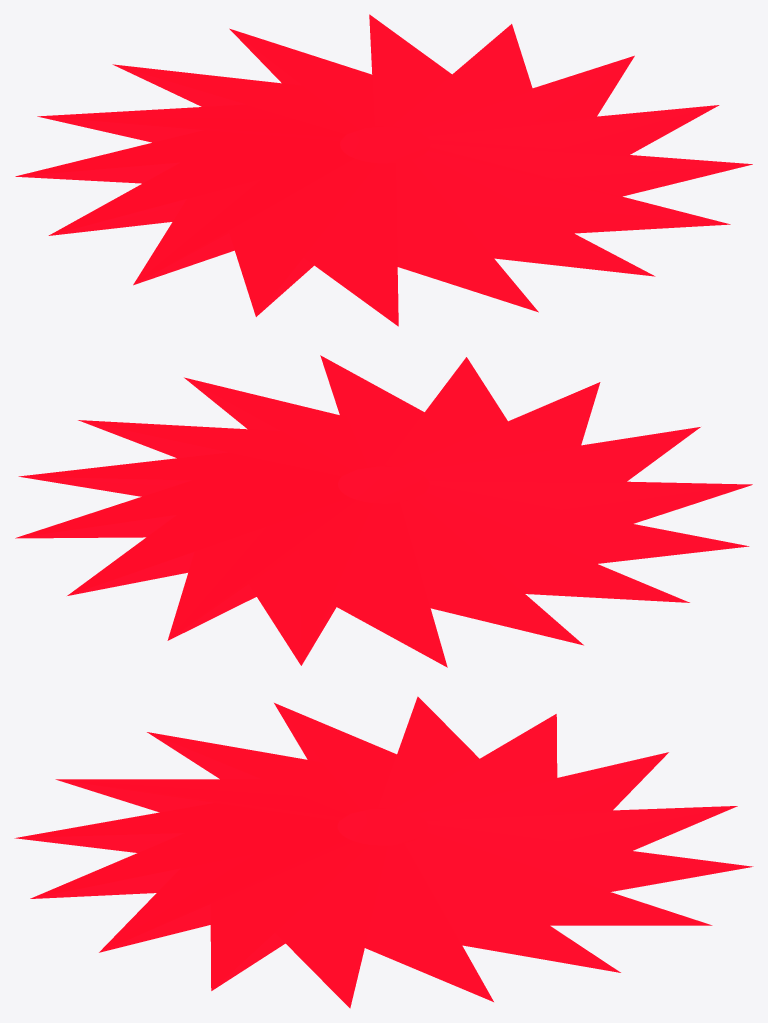
The model's file is Suriken.fbx.
3 renders of one model, top to bottom at view 1: azimuth 30°, elevation 25°; view 2: azimuth 150°, elevation 25°; view 3: azimuth 270°, elevation 25°, orthographic.
Visible parts, largest first — view 1: Circle; view 2: Circle; view 3: Circle.
Part boxes in pixels (<box>): Circle: <box>15,14,752,326</box>; Circle: <box>15,355,752,667</box>; Circle: <box>14,696,753,1008</box>.
Bounding box in the file's own units: 199 × 14.61 × 199.
